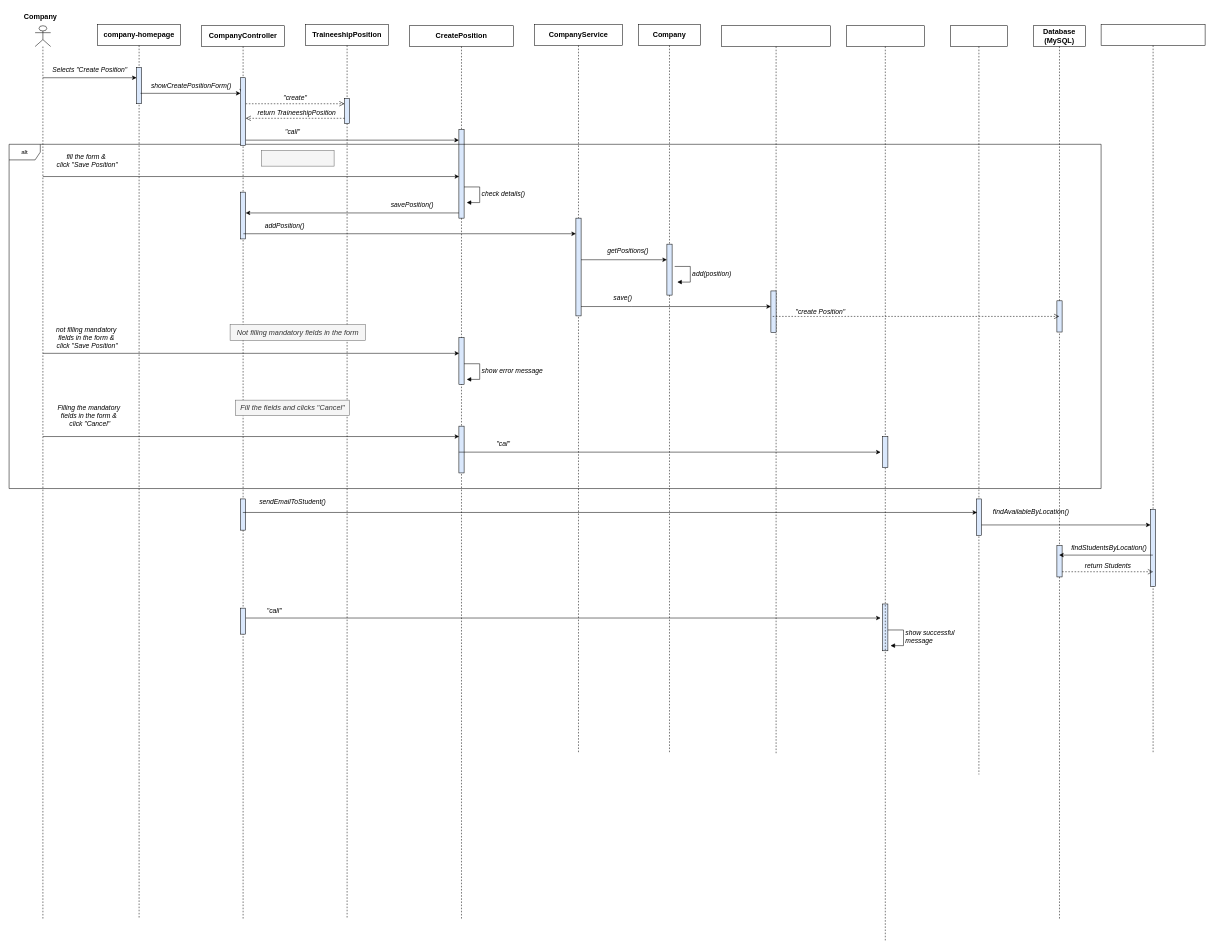
Some shapes in this 1214 by 950 pixel diagram are drawn without their labels. The shapes that lost their labels are listed below. From the top down, each one's box as (x1, y1, x2, y2) in pixels, then its label:
(261, 150, 334, 166): Fill correct the form
(721, 25, 831, 754): CompanyDAORepository
(950, 25, 1008, 775): EmailService
(1101, 24, 1205, 753): StudentDAORepository
(846, 25, 924, 941): AvailablePositions
